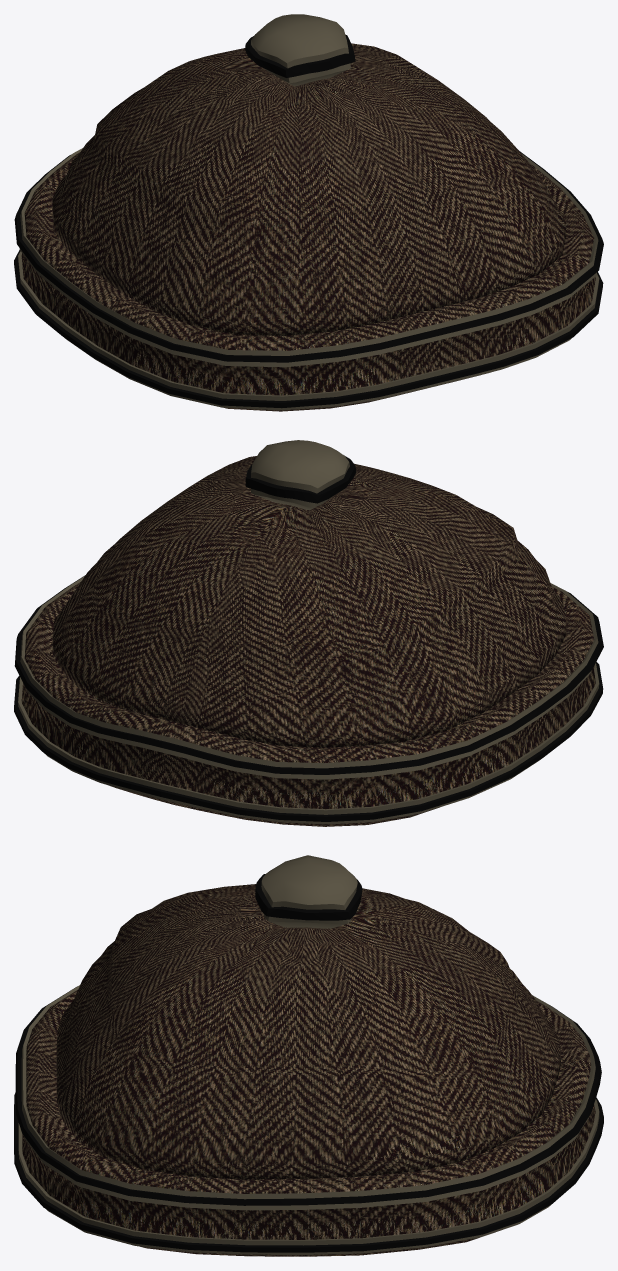
File: FbxCap.fbx
3 renders of one model, top to bottom at view 1: azimuth 30°, elevation 25°; view 2: azimuth 150°, elevation 25°; view 3: azimuth 270°, elevation 25°, orthographic. The views are drawn at different scales.
Parts seen in each view (by area): view 1: cap; view 2: cap; view 3: cap.
Boxes of the visible parts, left/top/right/bottom form: cap: left=14, top=14, right=603, bottom=411; cap: left=14, top=440, right=603, bottom=826; cap: left=14, top=855, right=603, bottom=1256.
Bounding box in the file's own units: 6.58 × 3.56 × 6.67.
3 materials, 1 textured.
